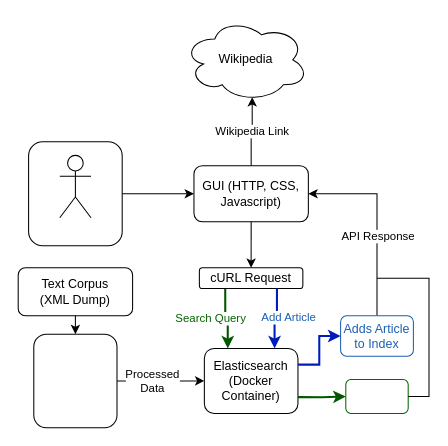
This 448x446 diagram has some shape labels left out. Here are the shapes that lost their labels. From the top down, the box of each, then its label:
(59, 154, 91, 218): End User
(33, 333, 117, 428): Pre-Processing and Text Cleanup (Apache Spark)
(345, 379, 408, 413): Query Response
